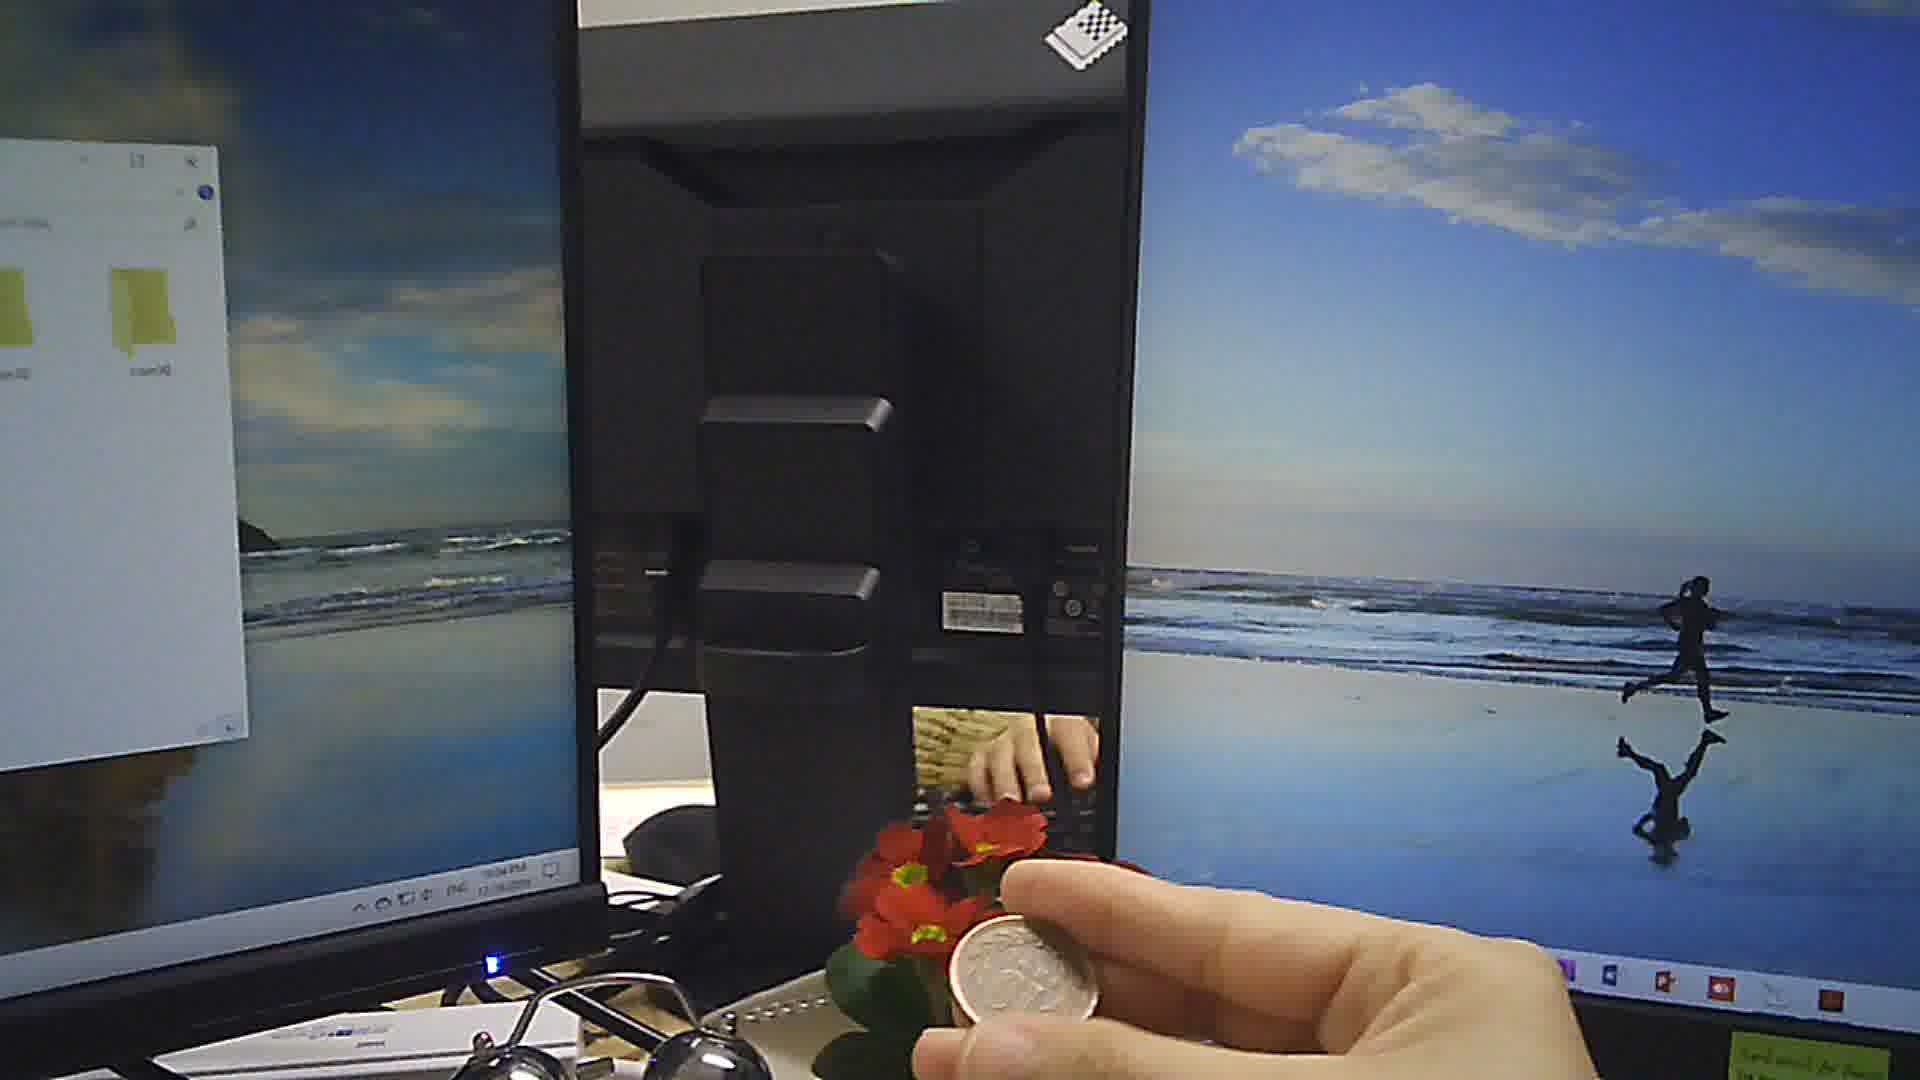10 Yen: (945, 906, 1106, 1029)
